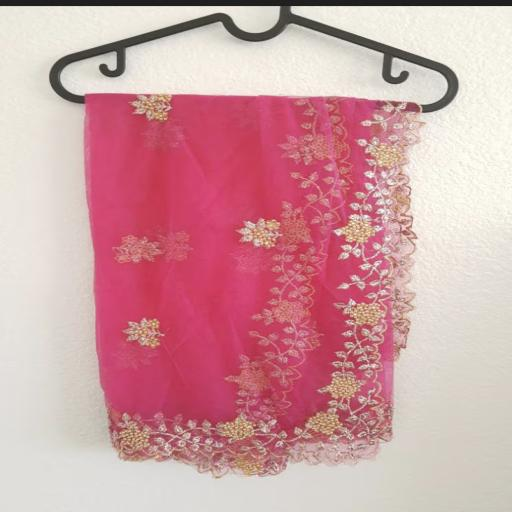dupatta: (71, 78, 420, 484)
